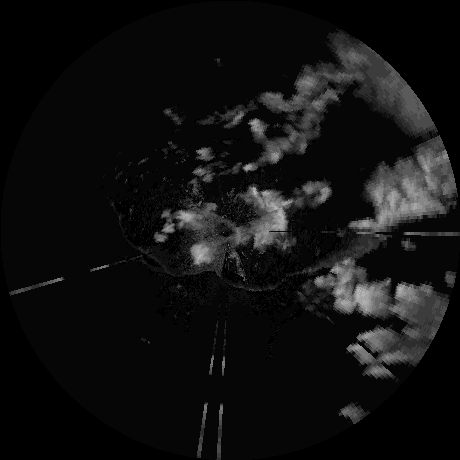frontgust: (132, 243, 216, 278), (220, 266, 319, 293)
